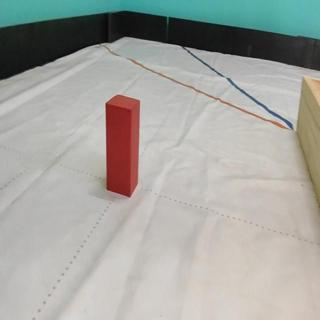redbox: (103, 93, 138, 197)
